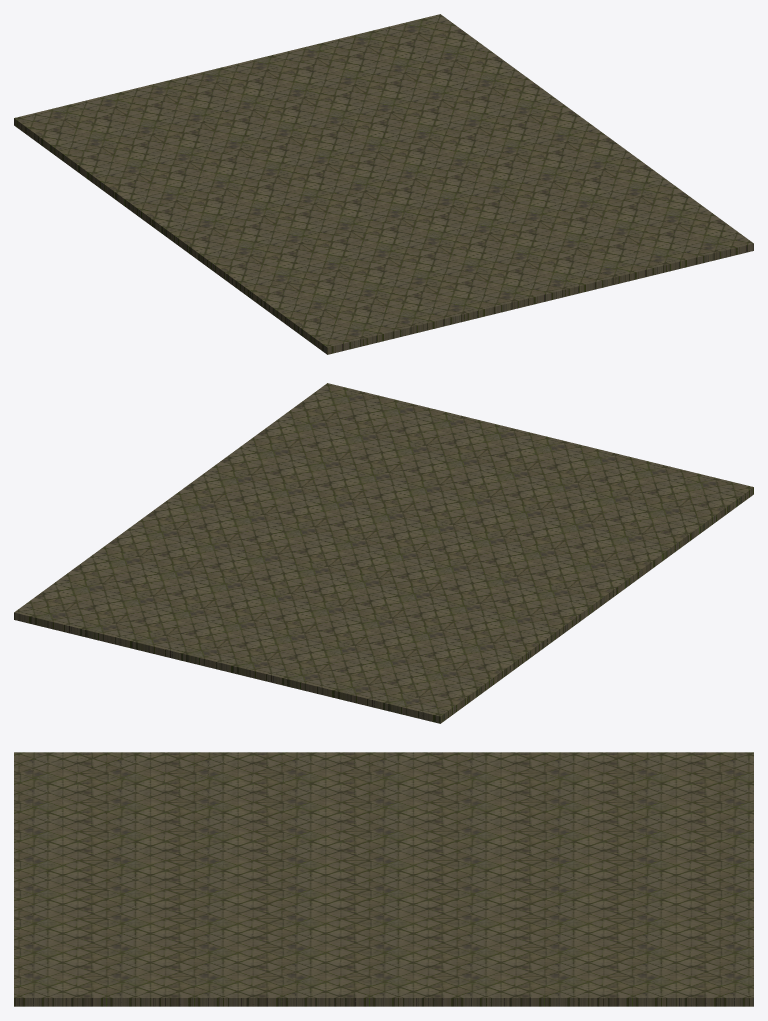
File: chão.fbx
The picture shows the model from 3 angles, top to bottom: view 1: azimuth 30°, elevation 25°; view 2: azimuth 150°, elevation 25°; view 3: azimuth 270°, elevation 25°; orthographic projection. The views are drawn at different scales.
Parts seen in each view (by area): view 1: pasted__pasted__pPlane15; view 2: pasted__pasted__pPlane15; view 3: pasted__pasted__pPlane15.
Part boxes in pixels (box(x1,y1,x2,y2)): pasted__pasted__pPlane15: box(14, 14, 753, 354); pasted__pasted__pPlane15: box(14, 383, 753, 723); pasted__pasted__pPlane15: box(14, 752, 753, 1006).
Bounding box in the file's own units: 42.72 × 0.7031 × 54.4.
